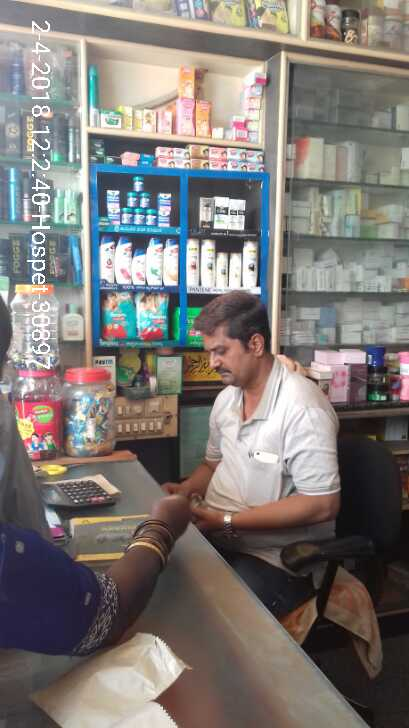vicks: (106, 177, 180, 229)
